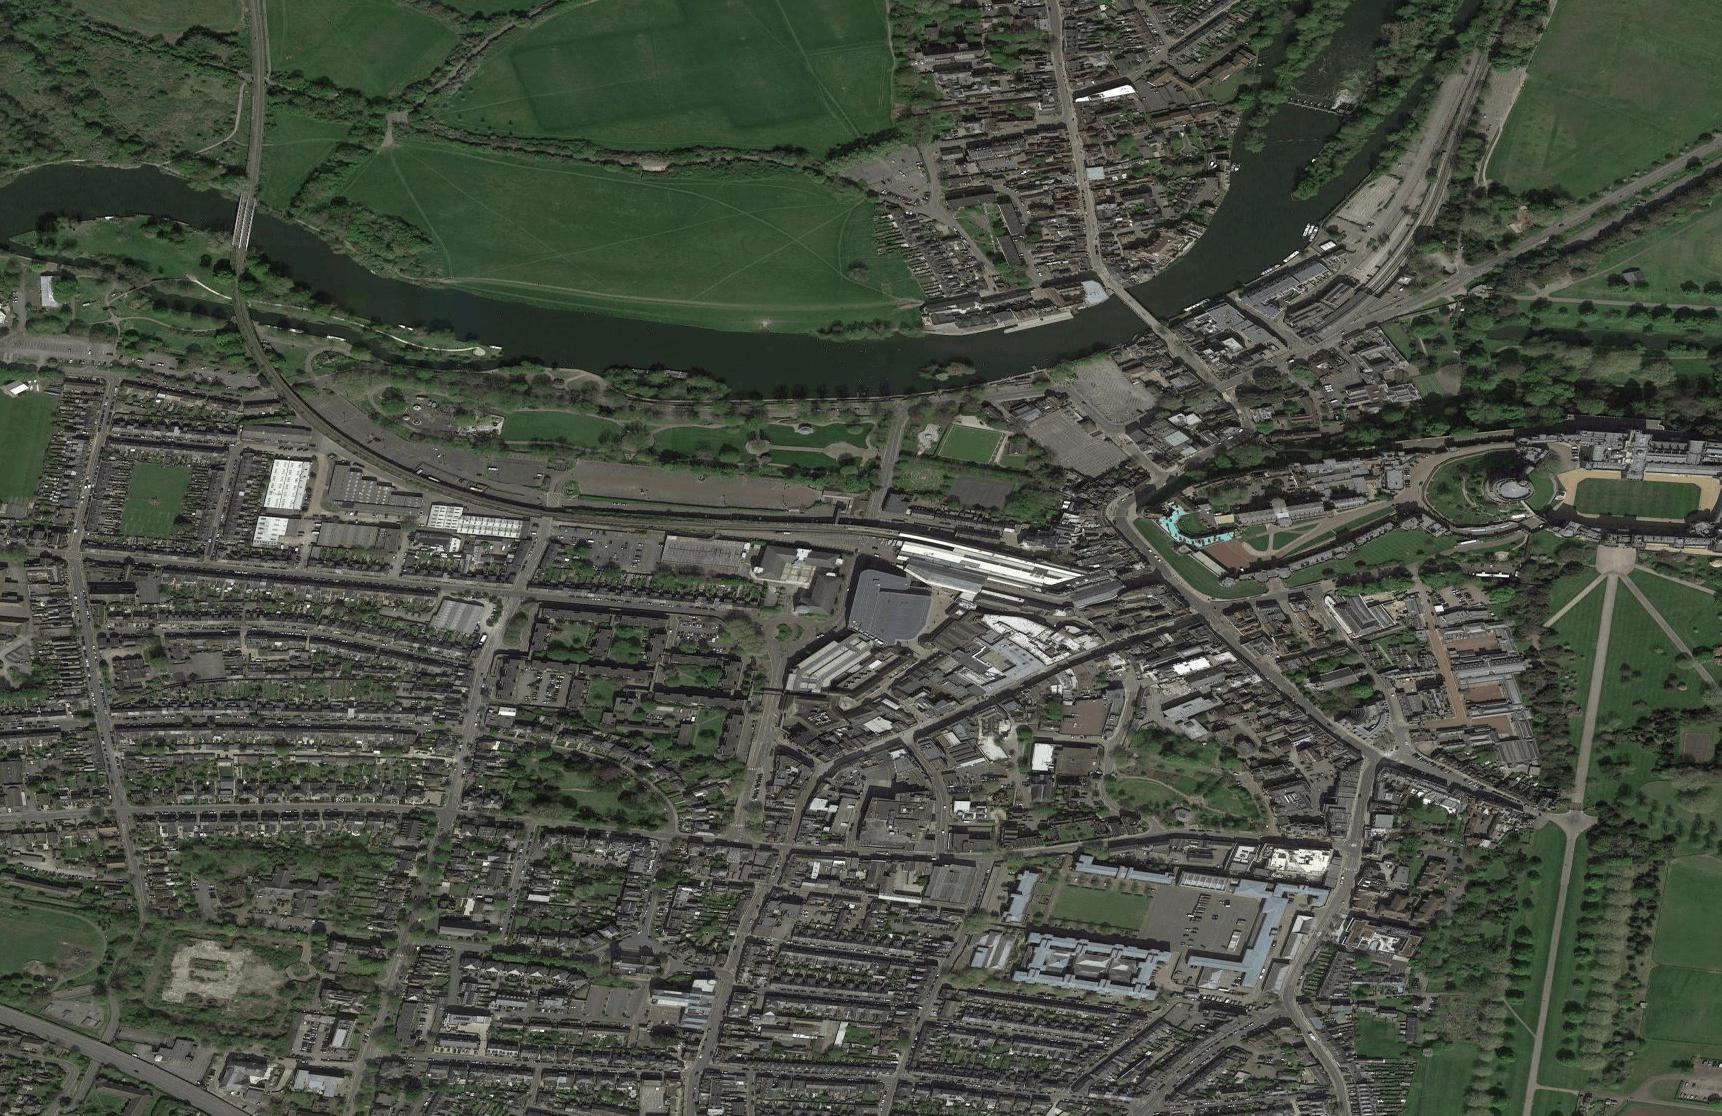bridge: (1115, 285, 1168, 335), (228, 196, 261, 249)
train_station: (815, 475, 1103, 707)
